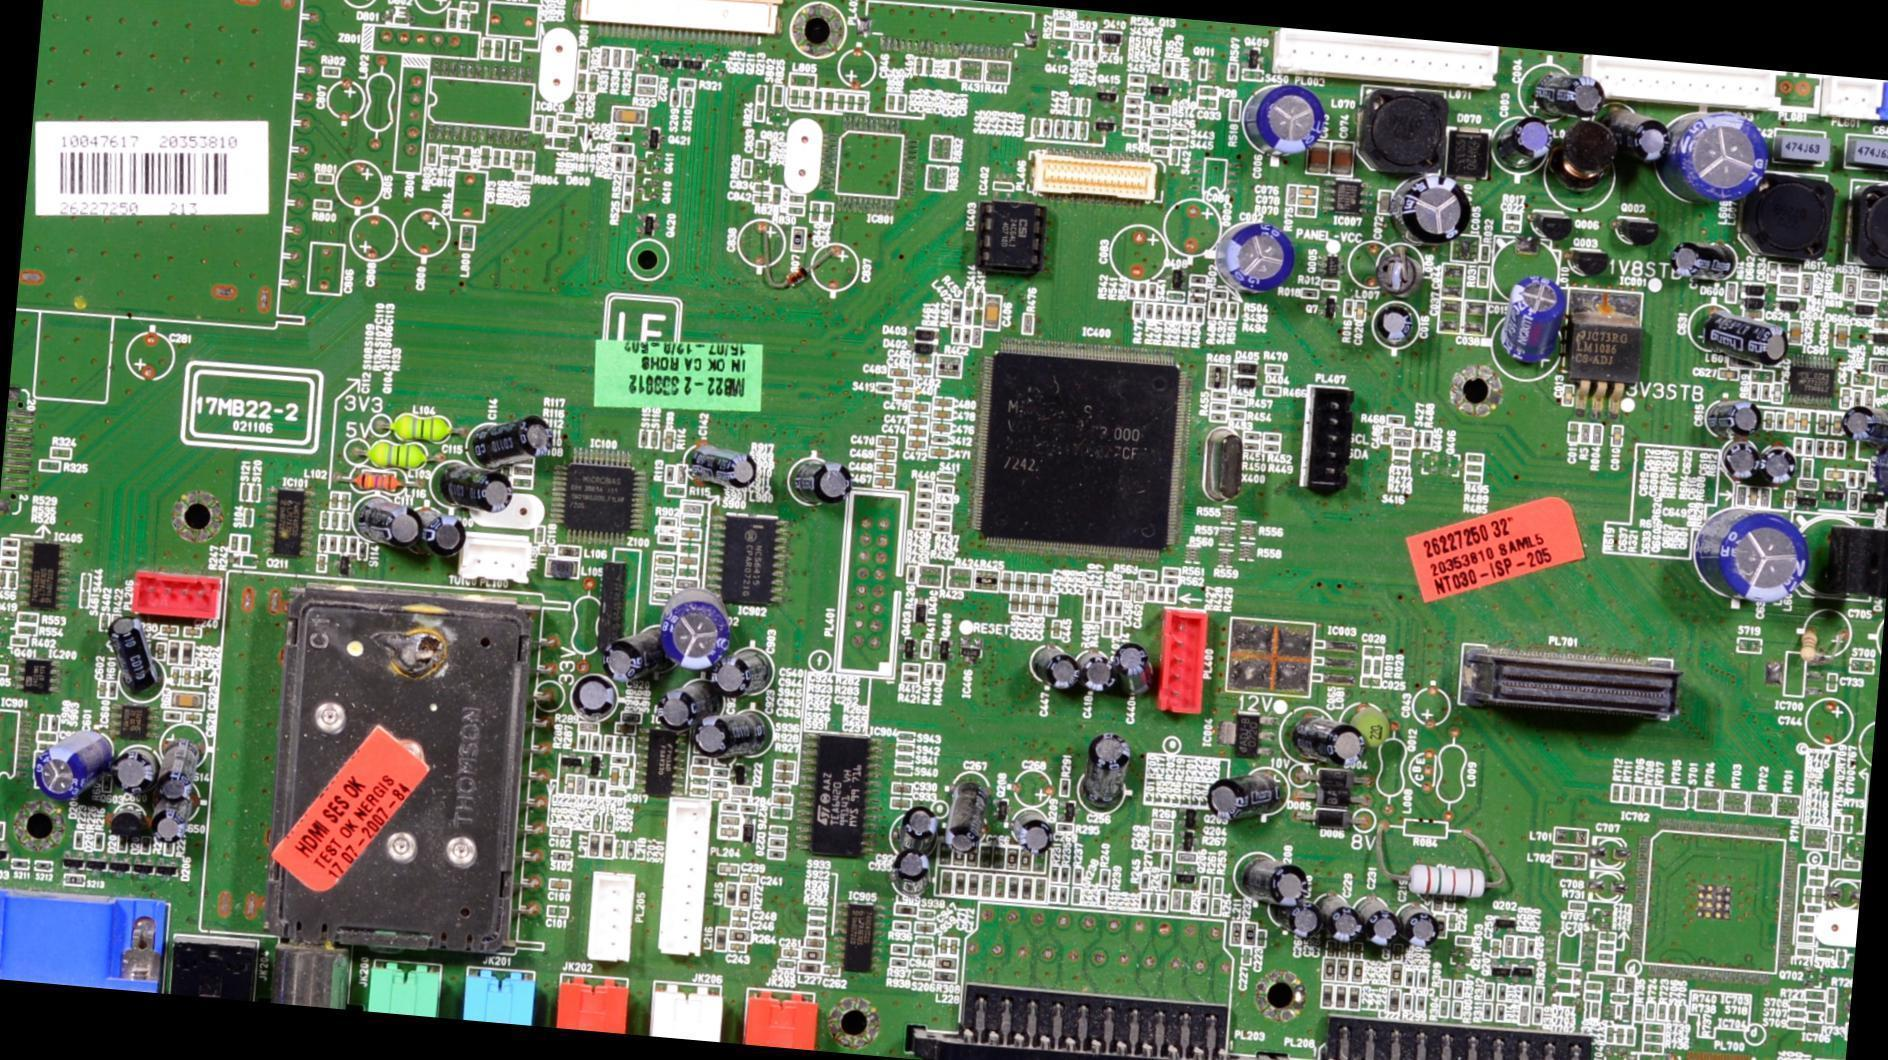Capacitor: (1498, 52, 1673, 197), (1254, 853, 1446, 938), (649, 680, 781, 764), (1014, 631, 1157, 705), (1499, 265, 1567, 372), (1698, 307, 1791, 363), (1204, 764, 1286, 826), (1078, 726, 1134, 816), (1434, 264, 1498, 336), (1291, 710, 1369, 769), (598, 629, 675, 687), (893, 805, 940, 897), (1711, 444, 1797, 490), (887, 389, 967, 437), (854, 422, 908, 492), (944, 776, 991, 853), (1783, 618, 1860, 665), (998, 569, 1065, 619), (709, 648, 780, 695), (1668, 234, 1735, 283), (1802, 696, 1860, 751), (1698, 395, 1764, 440), (478, 0, 545, 43), (837, 44, 891, 94), (883, 345, 938, 390), (1007, 805, 1055, 855), (1762, 407, 1843, 436), (1372, 299, 1420, 346), (472, 144, 536, 179), (1304, 137, 1354, 177), (1848, 126, 1887, 172), (1586, 868, 1627, 904), (1588, 837, 1629, 872), (1193, 81, 1228, 121), (1855, 717, 1874, 776), (980, 294, 1005, 335), (1739, 308, 1791, 327), (167, 689, 208, 713), (804, 200, 835, 229), (1322, 939, 1366, 959), (1102, 598, 1123, 639), (1118, 578, 1145, 606), (589, 811, 617, 837), (163, 710, 208, 726), (1713, 362, 1745, 384), (883, 88, 909, 114), (533, 521, 557, 549), (925, 447, 960, 466), (437, 142, 461, 168), (891, 782, 913, 810), (1373, 185, 1389, 223), (772, 758, 797, 782), (751, 179, 774, 204), (543, 902, 573, 919), (91, 673, 109, 701), (1787, 318, 1805, 346), (938, 937, 960, 958), (546, 878, 572, 895), (1559, 381, 1575, 408), (1362, 640, 1386, 658), (1824, 467, 1849, 484), (1608, 423, 1624, 449), (730, 908, 750, 928), (1298, 186, 1318, 206), (904, 435, 927, 452), (1835, 323, 1851, 347), (156, 623, 179, 639), (714, 862, 740, 876), (1502, 223, 1526, 238), (547, 824, 572, 838), (1766, 257, 1780, 282), (1822, 437, 1839, 457), (1004, 846, 1017, 872), (1239, 945, 1253, 969), (820, 965, 841, 981), (689, 765, 712, 779), (913, 922, 936, 936), (771, 794, 795, 807), (1360, 676, 1382, 690), (1018, 847, 1031, 870), (939, 843, 952, 865), (1255, 926, 1268, 948), (752, 136, 765, 158), (778, 948, 801, 960), (1355, 299, 1367, 322), (1033, 852, 1046, 873), (1826, 671, 1841, 689), (966, 844, 978, 866), (953, 847, 966, 867), (679, 527, 699, 540), (1036, 878, 1047, 901), (942, 869, 953, 892), (1568, 419, 1579, 442), (740, 872, 759, 885), (805, 939, 827, 950), (183, 626, 201, 639), (995, 876, 1005, 899), (609, 768, 620, 788), (1747, 486, 1758, 506), (1100, 46, 1121, 56), (913, 946, 932, 957), (1489, 940, 1500, 958), (679, 555, 697, 566), (1381, 428, 1392, 445), (1878, 375, 1887, 393), (730, 944, 745, 953)
Connector: (1523, 202, 1579, 243), (1613, 212, 1663, 248), (1563, 244, 1614, 279), (1737, 281, 1769, 310), (1848, 301, 1878, 318), (1863, 328, 1887, 349), (1771, 300, 1800, 314)
IC: (544, 434, 658, 551), (1220, 609, 1359, 700), (816, 115, 919, 228), (797, 728, 883, 862), (699, 509, 801, 621), (830, 891, 890, 972), (16, 536, 77, 613), (257, 483, 317, 561), (633, 726, 694, 799), (1207, 708, 1288, 761), (1760, 646, 1827, 704), (1781, 351, 1840, 410), (6, 652, 74, 702), (0, 697, 37, 778), (1320, 174, 1372, 222), (1197, 155, 1240, 205), (1551, 925, 1589, 969), (1306, 250, 1350, 280), (955, 634, 988, 667)
Resistor: (460, 530, 540, 586), (1696, 786, 1801, 822), (1791, 864, 1828, 954), (103, 697, 168, 747), (914, 564, 997, 595), (955, 56, 1013, 92), (1130, 299, 1207, 326), (1589, 922, 1624, 974), (1205, 389, 1253, 426), (1602, 781, 1665, 809), (917, 161, 966, 196), (920, 129, 963, 168), (1048, 864, 1085, 906), (3, 632, 72, 653), (1319, 955, 1365, 986), (1550, 968, 1583, 1011), (1634, 999, 1688, 1025), (1049, 13, 1095, 42), (14, 607, 71, 630), (769, 185, 807, 219), (9, 623, 69, 643), (1241, 429, 1286, 454), (599, 42, 636, 71), (445, 1, 478, 33), (1389, 430, 1415, 470), (1518, 985, 1543, 1026), (1460, 451, 1489, 486), (1482, 982, 1507, 1022), (1198, 360, 1234, 387), (613, 100, 650, 125), (897, 662, 927, 690), (1640, 1021, 1665, 1054), (660, 425, 686, 456), (1084, 587, 1105, 625), (1225, 38, 1243, 81), (1185, 272, 1209, 304), (1662, 784, 1691, 810), (1146, 583, 1180, 605), (1125, 281, 1162, 301), (1579, 420, 1606, 447), (928, 430, 961, 452), (1840, 271, 1862, 303), (887, 941, 912, 969), (634, 74, 660, 100), (316, 61, 347, 82), (47, 442, 78, 463), (1859, 274, 1882, 302), (1402, 990, 1427, 1015), (751, 84, 767, 123), (1237, 542, 1261, 568), (226, 532, 253, 555), (764, 837, 787, 863), (1180, 545, 1206, 568), (920, 661, 947, 683), (1404, 969, 1430, 991), (34, 455, 64, 474), (1022, 304, 1039, 337), (1794, 437, 1823, 456), (576, 732, 603, 752), (1098, 870, 1112, 908), (1799, 271, 1818, 299), (1830, 811, 1854, 833), (311, 167, 337, 187), (1123, 96, 1142, 123), (1237, 518, 1258, 542), (1747, 382, 1772, 402), (1825, 987, 1838, 1025), (1215, 526, 1237, 548), (1217, 502, 1238, 525), (1153, 103, 1172, 128), (1318, 276, 1347, 292), (1296, 286, 1325, 302), (1359, 657, 1382, 677), (104, 672, 118, 702), (1216, 550, 1235, 572), (735, 885, 753, 908), (1780, 274, 1797, 298), (680, 501, 704, 518), (1563, 899, 1588, 915), (953, 871, 969, 896), (654, 513, 679, 529), (92, 830, 108, 854), (311, 198, 335, 214), (1339, 295, 1355, 319), (966, 873, 980, 900), (1162, 565, 1179, 587), (1019, 878, 1035, 901), (1155, 874, 1174, 893), (1499, 210, 1526, 223), (1861, 387, 1876, 410), (1292, 207, 1318, 220), (992, 844, 1006, 868), (1758, 487, 1773, 509), (656, 533, 677, 548), (1051, 823, 1079, 834), (1264, 361, 1286, 375), (1057, 776, 1073, 795), (712, 770, 728, 789), (609, 122, 634, 134), (978, 844, 991, 867), (870, 380, 893, 393), (663, 465, 676, 488), (1126, 73, 1149, 86), (890, 919, 911, 933), (1226, 300, 1238, 324), (1834, 437, 1847, 459), (1205, 300, 1220, 319), (1735, 485, 1749, 505), (1452, 976, 1464, 999), (729, 931, 752, 943), (981, 873, 992, 898), (1437, 998, 1450, 1019), (1208, 288, 1229, 301), (1262, 383, 1283, 396), (1138, 568, 1157, 582), (72, 829, 83, 853), (1804, 989, 1826, 1001), (676, 76, 698, 88), (427, 142, 438, 166), (1422, 428, 1433, 452), (1851, 368, 1863, 388), (1009, 878, 1020, 899), (771, 784, 793, 794), (806, 929, 827, 939), (1440, 978, 1451, 997), (1386, 414, 1403, 426), (1138, 126, 1149, 144), (1139, 873, 1149, 891), (1452, 1002, 1462, 1019), (1140, 891, 1149, 909), (1805, 1024, 1820, 1034), (113, 608, 120, 618), (68, 627, 69, 630)
Transistor: (906, 324, 944, 354), (679, 46, 712, 80), (653, 44, 685, 77), (1491, 959, 1535, 981), (1819, 482, 1849, 511), (1859, 485, 1887, 515), (1091, 84, 1121, 110), (1090, 115, 1122, 138), (1172, 865, 1198, 891), (1242, 43, 1269, 68), (895, 635, 920, 662), (1511, 233, 1540, 254), (913, 594, 932, 626), (934, 637, 958, 662), (1177, 807, 1200, 833), (1148, 79, 1173, 102), (1794, 490, 1818, 513), (1175, 834, 1201, 855), (740, 816, 757, 848), (1095, 29, 1129, 45), (1058, 799, 1077, 823), (561, 753, 584, 770), (589, 756, 605, 779), (613, 724, 637, 737), (619, 713, 642, 724), (1495, 919, 1514, 931)
